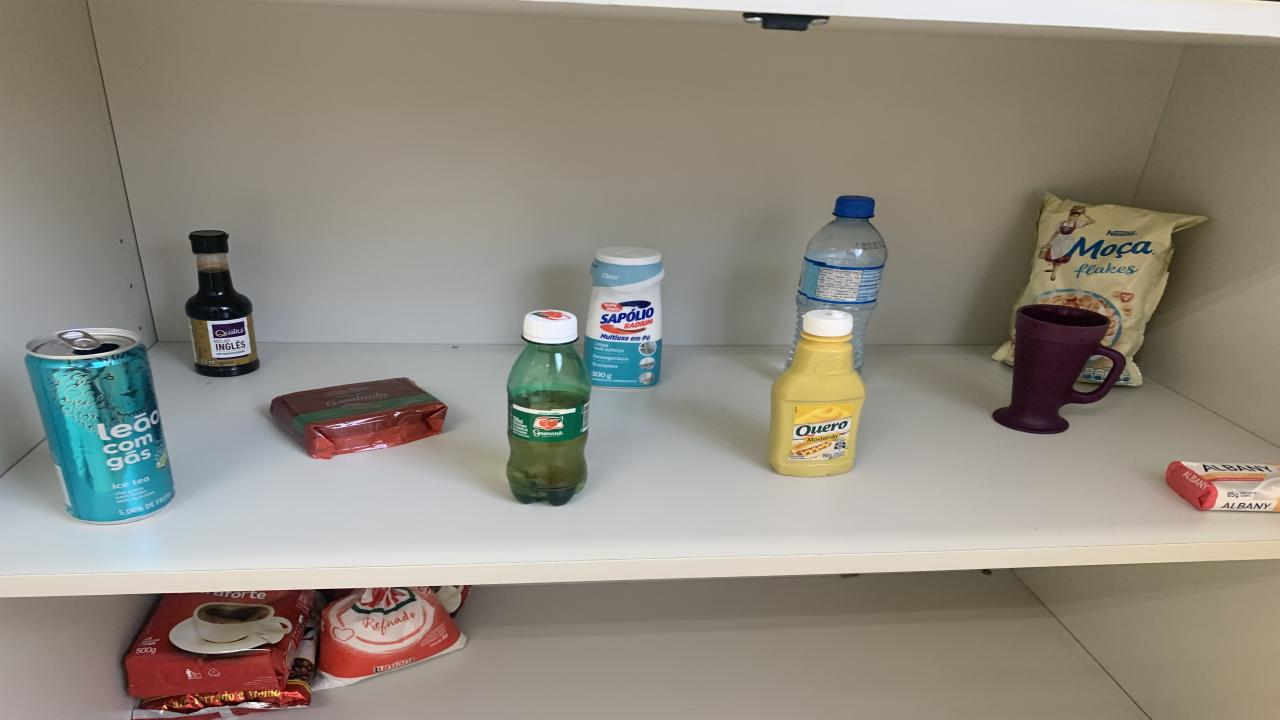Cleaner-Cleanup_Items: (585, 248, 665, 388)
English_Sauce-Pantry_Items: (185, 231, 260, 377)
Guarana-Drinks: (508, 309, 590, 506)
Guava-Snacks: (270, 377, 448, 459)
Mustard-Pantry_Items: (1015, 193, 1208, 386), (768, 309, 865, 476)
Soap-Cleanup_Items: (1165, 461, 1280, 512)
Tea-Drinks: (25, 328, 175, 523)
Water_Bottle-Drinks: (790, 197, 888, 371)
